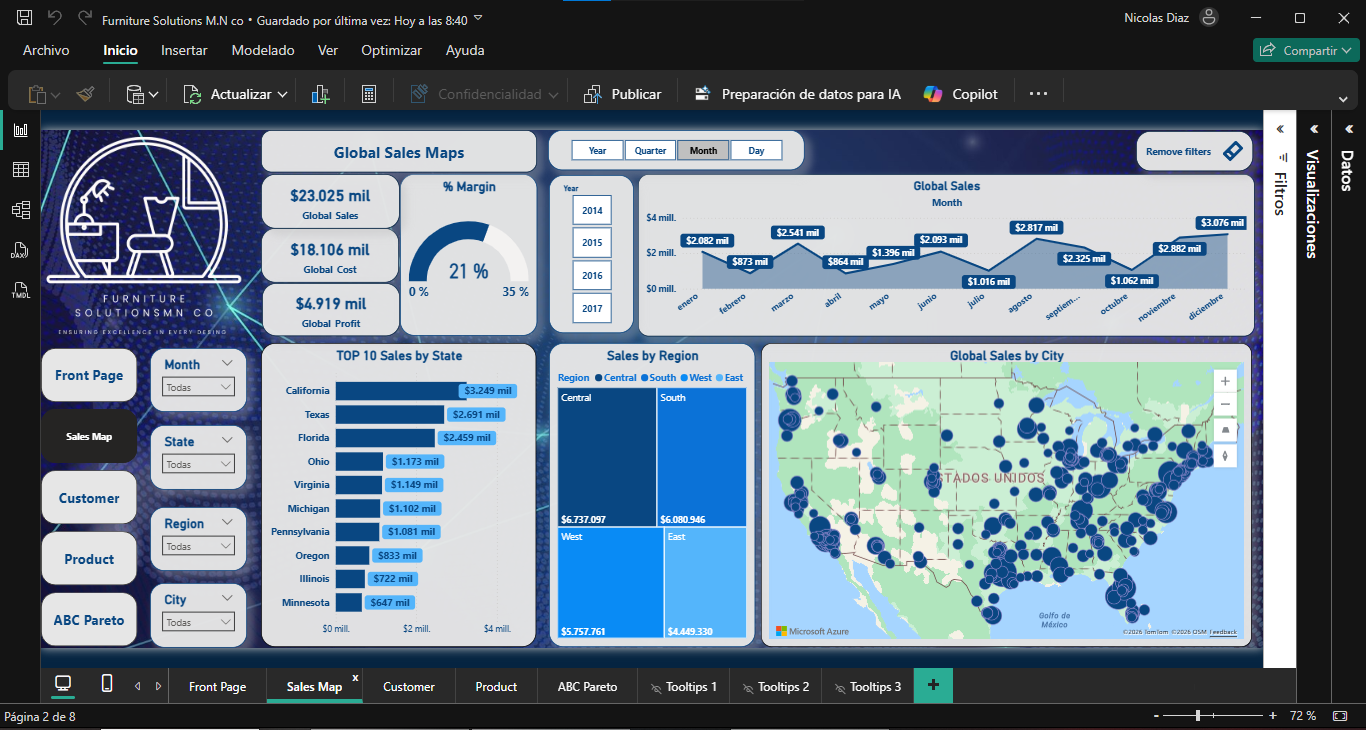

This screenshot's page, from the dashboard's own definition file:
{"tool":"powerbi","page":{"name":"Sales Map","canvas":[1700,720],"ordinal":1},"visuals":[{"type":"azureMap","title":"Global Sales by City","fields":{"Size":["Measures Table.Global_Sales"],"Category":["Address_Table.City"]},"box":[1001,297,683,423],"z":0},{"type":"clusteredBarChart","title":"TOP 10 Sales by State","fields":{"Category":["Address Table.State"],"Y":["Measures Table.Global_Sales"]},"box":[306.7,296.7,383.3,423.3],"z":1000},{"type":"card","fields":{"Values":["Measures_Table.Global_Cost"]},"box":[306.5,136.6,192,75.7],"z":2000},{"type":"card","fields":{"Values":["Measures_Table.Global_Profit"]},"box":[307.2,212.8,192,73.6],"z":3000},{"type":"areaChart","title":"Global Sales","fields":{"Category":["Calendar.Date.Variación.Jerarquía de fechas.Mes"],"Y":["Measures Table.Global_Sales"]},"box":[830.4,60.8,857.6,225.6],"z":4000},{"type":"gauge","title":"% Margin","fields":{"Y":["Measures_Table.% Margin"],"MaxValue":["Measures_Table.limite % Margen"]},"box":[498.8,61.2,191.2,225],"z":5000},{"type":"slicer","fields":{"Values":["Address Table.Region"]},"box":[151.4,524.3,134.8,88.6],"z":6000},{"type":"slicer","fields":{"Values":["Address Table.State"]},"box":[151.4,409.8,134.8,90.5],"z":7000},{"type":"slicer","fields":{"Values":["Calendario.Date.Variación.Jerarquía de fechas.Mes"]},"box":[151.4,302.8,134.8,88.6],"z":8000},{"type":"pageNavigator","box":[0,302.8,134.8,417.2],"z":9000},{"type":"textbox","box":[306.5,0,384,59.1],"z":10000},{"type":"treemap","title":"Sales by Region","fields":{"Group":["Address Table.Region"],"Values":["Measures Table.Global_Sales"]},"box":[707,297,287,423],"z":11000},{"type":"image","box":[0,0,286.2,297.2],"z":12000},{"type":"slicer","fields":{"Values":["Address Table.City"]},"box":[151.4,629.5,134.8,90.5],"z":13000},{"type":"card","fields":{"Values":["Measures Table.Global_Sales"]},"box":[306.2,61.2,192.5,76.2],"z":14000},{"type":"actionButton","box":[1524,2,163,56],"z":15000},{"type":"slicer","fields":{"Values":["date parameter.date parameter"]},"box":[705.6,0,356.8,56],"z":16000},{"type":"slicer","fields":{"Values":["Calendario.Date.Variación.Jerarquía de fechas.Año"]},"box":[707.1,62.8,118.2,219.7],"z":17000}]}

Visuals, with their boxes on the page's 1700x720 design canvas (x1, y1, x2, y2). These are canvas units, not pixel positions in the 1366x730 screenshot, which may show the page scaled, cropped or inside an application window:
"Global Sales by City" azureMap: detection(1001, 297, 1684, 720)
"TOP 10 Sales by State" clusteredBarChart: detection(307, 297, 690, 720)
card - Measures_Table.Global_Cost: detection(306, 137, 498, 212)
card - Measures_Table.Global_Profit: detection(307, 213, 499, 286)
"Global Sales" areaChart: detection(830, 61, 1688, 286)
"% Margin" gauge: detection(499, 61, 690, 286)
slicer - Address Table.Region: detection(151, 524, 286, 613)
slicer - Address Table.State: detection(151, 410, 286, 500)
slicer - Calendario.Date.Variación.Jerarquía de fechas.Mes: detection(151, 303, 286, 391)
pageNavigator: detection(0, 303, 135, 720)
textbox: detection(306, 0, 690, 59)
"Sales by Region" treemap: detection(707, 297, 994, 720)
image: detection(0, 0, 286, 297)
slicer - Address Table.City: detection(151, 630, 286, 720)
card - Measures Table.Global_Sales: detection(306, 61, 499, 137)
actionButton: detection(1524, 2, 1687, 58)
slicer - date parameter.date parameter: detection(706, 0, 1062, 56)
slicer - Calendario.Date.Variación.Jerarquía de fechas.Año: detection(707, 63, 825, 282)
